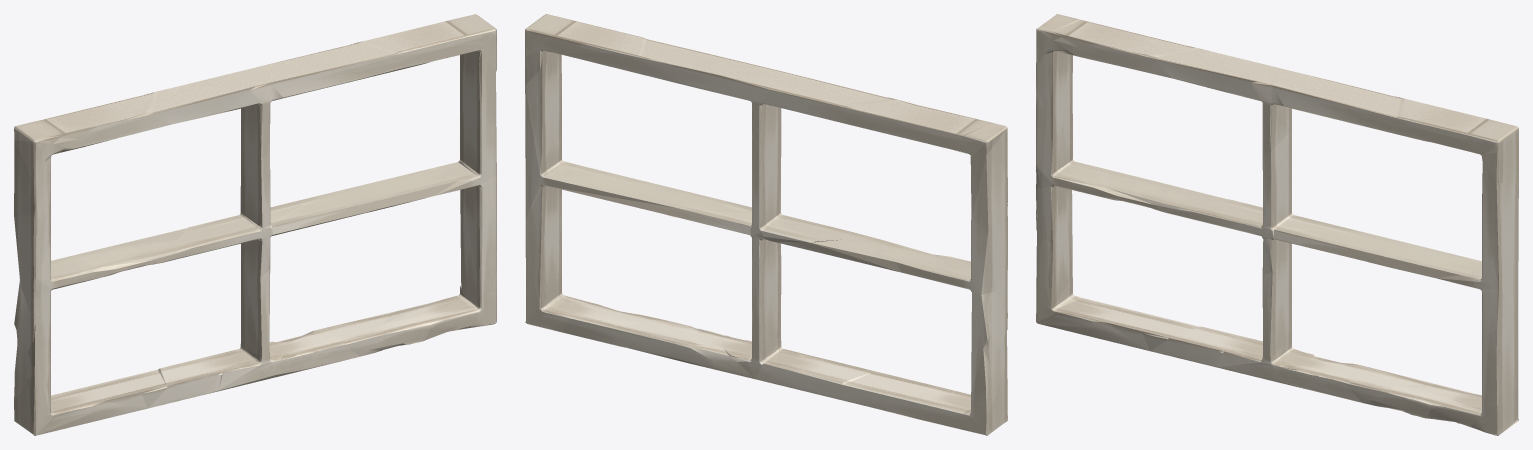
Rendered from raw_win_studio_cross.glb.
3 renders of one model, left to right at view 1: azimuth 30°, elevation 25°; view 2: azimuth 150°, elevation 25°; view 3: azimuth 330°, elevation 25°, orthographic.
Bounding box in the file's own units: 1.9 × 1.16 × 0.1516.
Materials: 1 (1 with a texture image).
